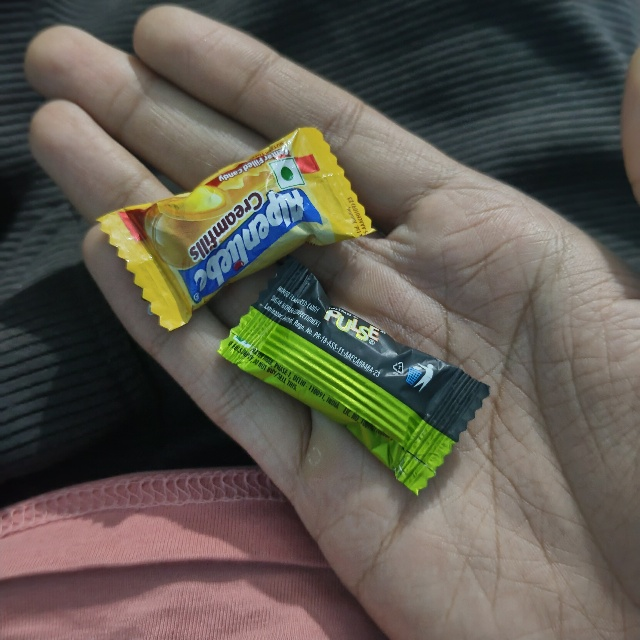Alpenlibe Creamfills: (98, 222, 342, 347)
Pulse: (282, 251, 534, 375)
